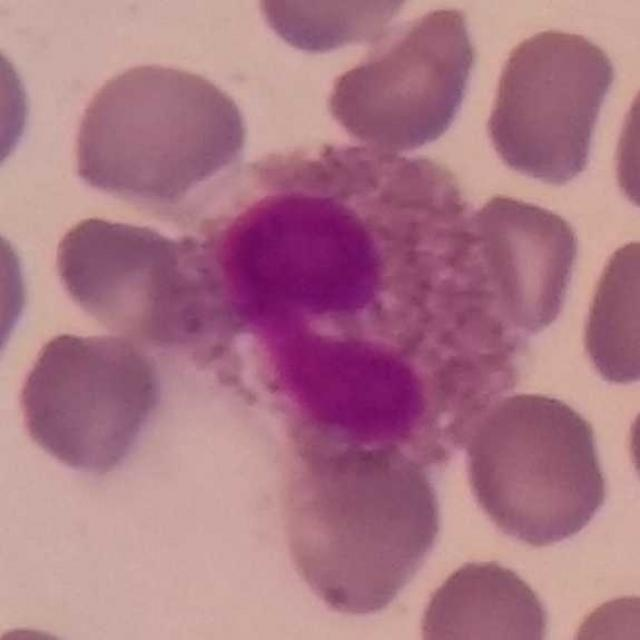Eosinophil: (164, 137, 534, 470)
RBC: (272, 433, 450, 622), (63, 53, 254, 214), (458, 386, 614, 552), (10, 323, 168, 482), (323, 1, 485, 156), (480, 20, 621, 190), (47, 208, 207, 345), (453, 187, 588, 342), (412, 552, 556, 640), (573, 230, 640, 392), (249, 0, 423, 58), (0, 21, 39, 194), (0, 210, 36, 391), (605, 57, 640, 229), (556, 585, 640, 639), (620, 381, 640, 515), (0, 617, 110, 640)
